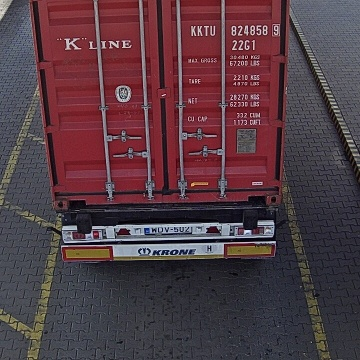serial_id: (191, 25, 280, 35)
